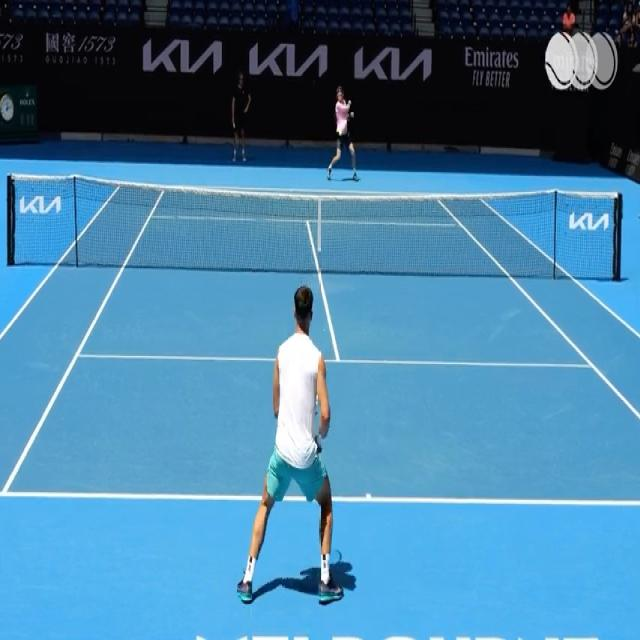ready-position: (241, 265, 335, 616)
